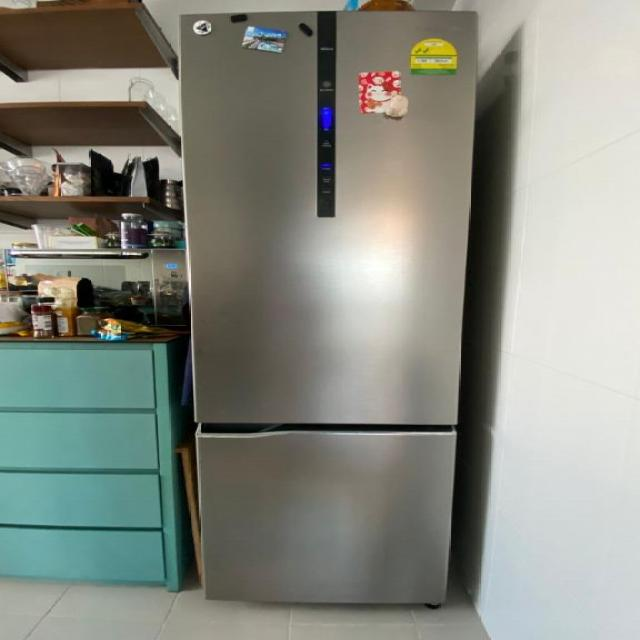refrigerator: (176, 9, 474, 611)
